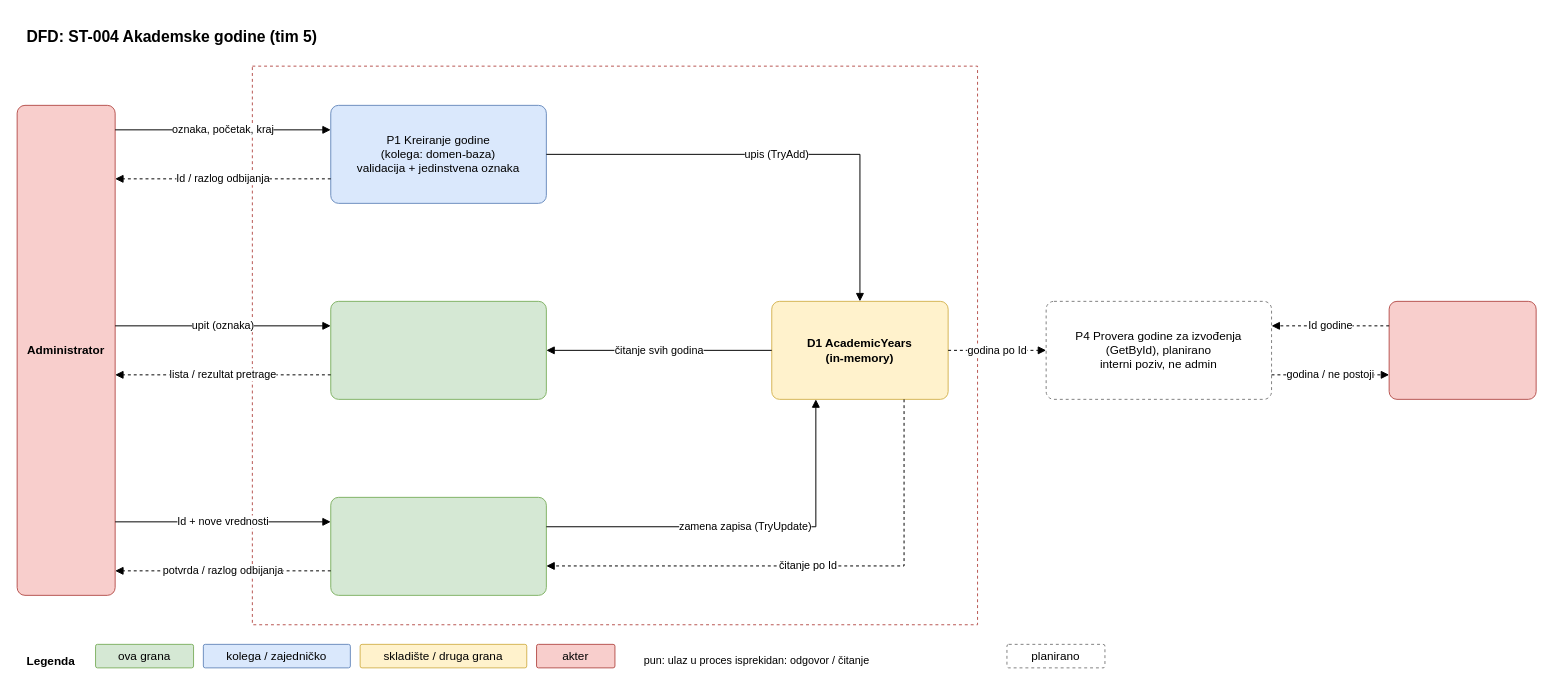
This 1553x685 diagram has some shape labels left out. The shapes that lost their labels are listed below. From the top down, each one's box as (x1, y1, x2, y2) in pixels, then its label:
(330, 300, 546, 399): P2 Pregled i pretraga sortirano po početku
(251, 65, 978, 625): Granica pristupa: samo Administrator (provera uloge planirana)
(1388, 300, 1536, 399): Izvođenja (ST-004, druga grana)
(330, 496, 546, 595): P3 Izmena godine validacija + jedinstvena oznaka
